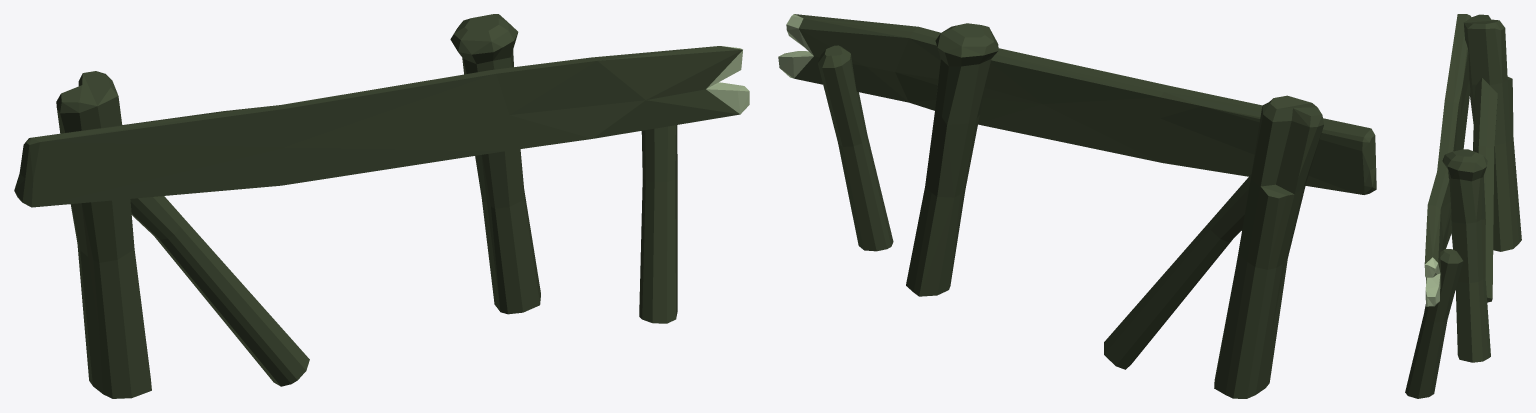
File: EA_Fence_01a.glb
3 views of the same model, side by side, from view 1: azimuth 30°, elevation 25°; view 2: azimuth 150°, elevation 25°; view 3: azimuth 270°, elevation 25° (orthographic). The views are drawn at different scales.
Parts seen in each view (by area): view 1: EA_Fence_01a; view 2: EA_Fence_01a; view 3: EA_Fence_01a.
Boxes of the visible parts, x1,y1,x2,y2 form: EA_Fence_01a: (14,14,749,398); EA_Fence_01a: (778,14,1376,398); EA_Fence_01a: (1405,14,1521,398).
Bounding box in the file's own units: 2.18 × 1.03 × 0.4836.
1 material, 1 textured.
